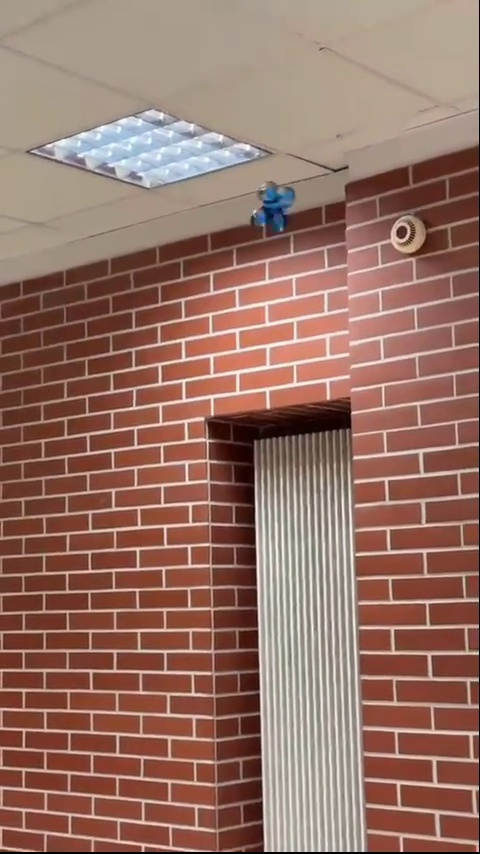drone: (249, 182, 296, 239)
